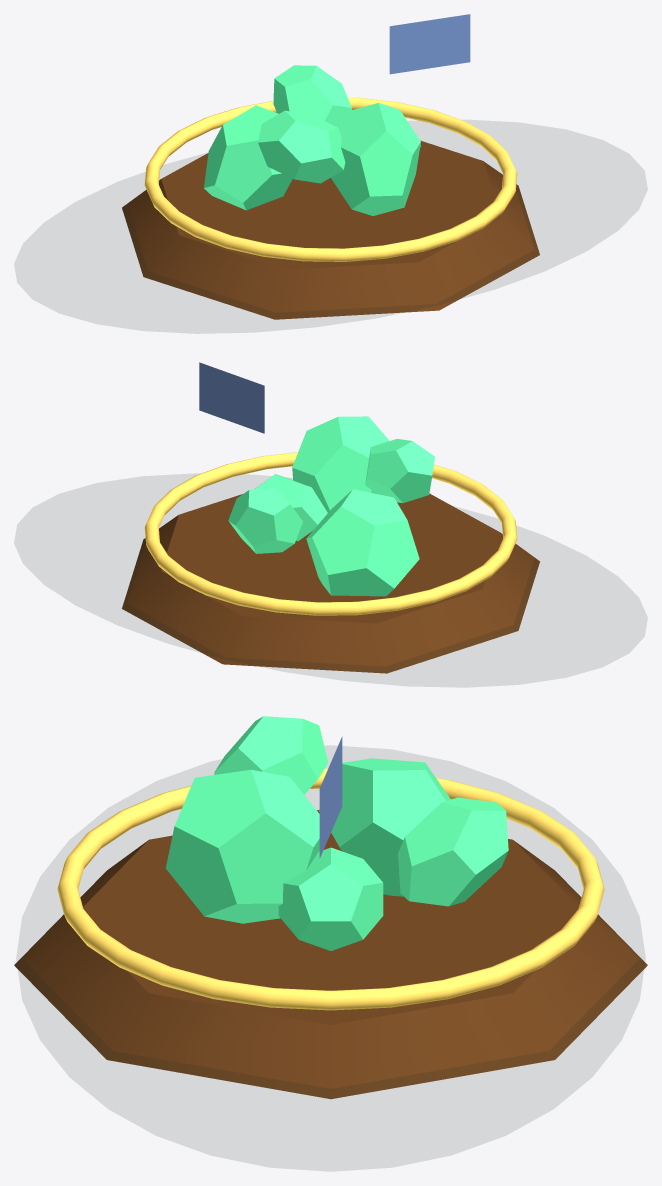
Rendered from resource_site.glb.
3 renders of one model, top to bottom at view 1: azimuth 30°, elevation 25°; view 2: azimuth 150°, elevation 25°; view 3: azimuth 270°, elevation 25°, orthographic. The views are drawn at different scales.
Visible parts, largest first — view 1: resource_plinth, soft_ground_shadow, control_ring, region_shard_1, region_shard_3, region_shard_2, small_signal_cloth, region_shard_4; view 2: resource_plinth, soft_ground_shadow, control_ring, region_shard_3, region_shard_1, region_shard_4, region_shard_2, small_signal_cloth, region_shard_0; view 3: resource_plinth, soft_ground_shadow, control_ring, region_shard_1, region_shard_4, region_shard_3, region_shard_0, region_shard_2, small_signal_cloth.
Boxes of the visible parts, x1,y1,x2,y2 form: resource_plinth: [122, 140, 539, 319]; soft_ground_shadow: [15, 120, 646, 333]; control_ring: [144, 97, 517, 261]; region_shard_1: [331, 103, 420, 215]; region_shard_3: [204, 105, 292, 210]; region_shard_2: [258, 110, 345, 183]; small_signal_cloth: [389, 14, 470, 74]; region_shard_4: [273, 65, 351, 131]; resource_plinth: [122, 493, 539, 673]; soft_ground_shadow: [15, 474, 646, 686]; control_ring: [144, 452, 517, 615]; region_shard_3: [306, 489, 419, 596]; region_shard_1: [292, 416, 389, 512]; region_shard_4: [228, 488, 302, 553]; region_shard_2: [365, 439, 434, 502]; small_signal_cloth: [199, 362, 264, 433]; region_shard_0: [254, 474, 327, 540]; resource_plinth: [14, 810, 647, 1099]; soft_ground_shadow: [16, 746, 645, 1170]; control_ring: [57, 768, 604, 1010]; region_shard_1: [165, 769, 319, 923]; region_shard_4: [398, 797, 508, 906]; region_shard_3: [319, 758, 450, 896]; region_shard_0: [278, 847, 383, 950]; region_shard_2: [214, 716, 328, 794]; small_signal_cloth: [319, 736, 342, 858].
Bounding box in the file's own units: 3.38 × 1.01 × 2.12.
